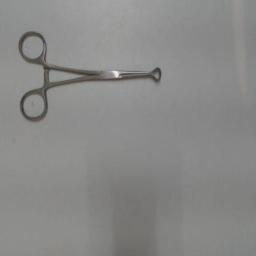Babcock Tissue Forceps: (16, 28, 164, 124)
